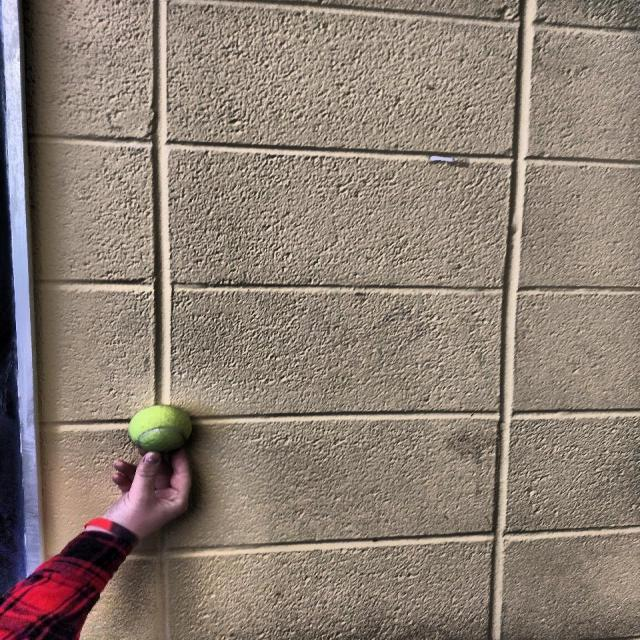tennis-ball: (126, 402, 194, 456)
